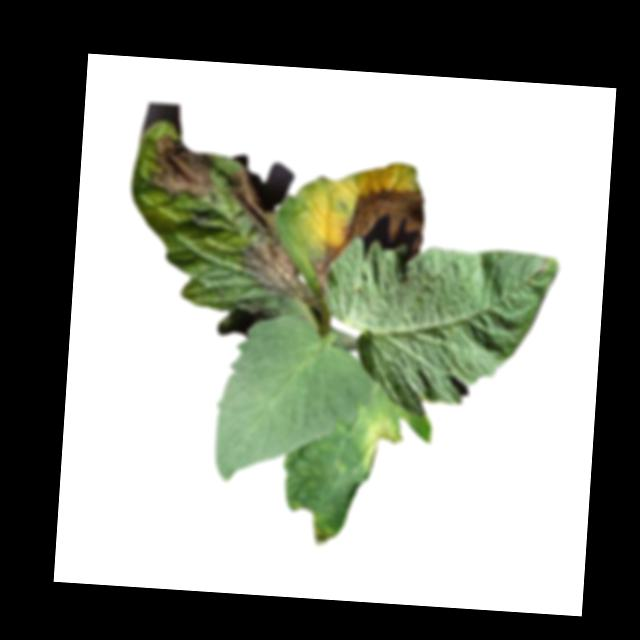Late_blight: (220, 165, 332, 311), (343, 184, 427, 253), (148, 133, 221, 201), (362, 410, 404, 476), (313, 244, 342, 300), (311, 522, 339, 548)
healthy: (315, 235, 561, 426), (211, 310, 381, 491)
